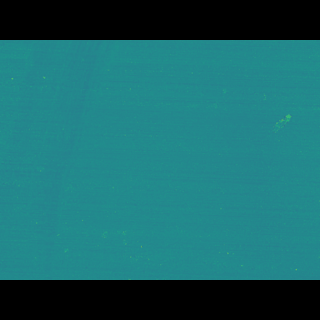Loch: (0, 68, 115, 228)
